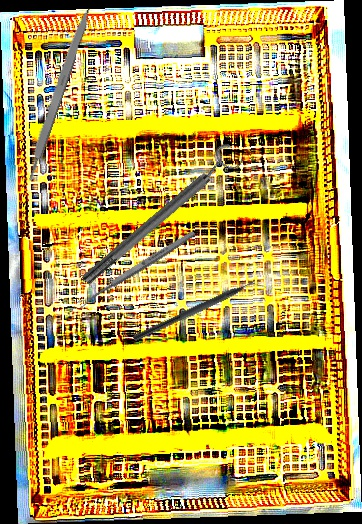Chopper: (132, 273, 268, 351)
Fixation Ring: (73, 140, 247, 292)
Scalpel Handle: (22, 5, 93, 183)
Surgical Spoon: (76, 229, 197, 309)
